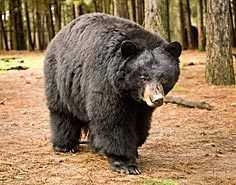bear: (54, 28, 182, 156)
